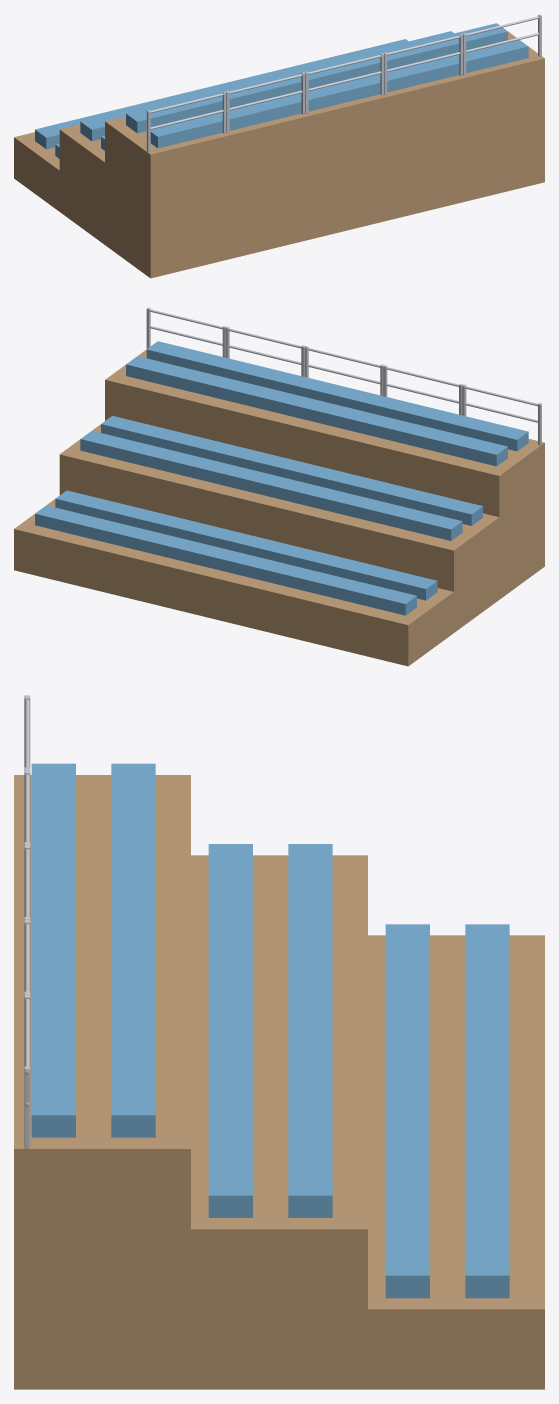
The model's file is Grandstand.fbx.
The picture shows the model from 3 angles, top to bottom: view 1: azimuth 30°, elevation 25°; view 2: azimuth 150°, elevation 25°; view 3: azimuth 270°, elevation 25°; orthographic projection. The views are drawn at different scales.
Parts seen in each view (by area): view 1: Grandstand_Tier2, Grandstand_Seats2-0.55, Grandstand_Seats20.35, Grandstand_Tier1, Grandstand_Tier0, Grandstand_Seats00.35, Grandstand_Seats10.35, Grandstand_Rail-4.0, Grandstand_Rail-2.0, Grandstand_Rail0.0, Grandstand_Rail2.0, Grandstand_Rail4.0; view 2: Grandstand_Tier2, Grandstand_Tier0, Grandstand_Tier1, Grandstand_Seats10.35, Grandstand_Seats00.35, Grandstand_Seats20.35, Grandstand_Seats0-0.55, Grandstand_Seats2-0.55, Grandstand_Seats1-0.55, Grandstand_Rail-4.0, Grandstand_Rail4.0, Grandstand_Rail2.0 (+2 smaller); view 3: Grandstand_Tier2, Grandstand_Tier1, Grandstand_Tier0, Grandstand_Seats00.35, Grandstand_Seats20.35, Grandstand_Seats0-0.55, Grandstand_Seats2-0.55, Grandstand_Seats1-0.55, Grandstand_Seats10.35, Grandstand_Rail4.0.
Part boxes in pixels (x1,y1,x2,y2): Grandstand_Tier2: [105, 31, 544, 278]; Grandstand_Seats2-0.55: [150, 40, 528, 148]; Grandstand_Seats20.35: [126, 23, 507, 133]; Grandstand_Tier1: [59, 124, 104, 244]; Grandstand_Tier0: [14, 132, 59, 211]; Grandstand_Seats00.35: [35, 39, 408, 149]; Grandstand_Seats10.35: [80, 31, 453, 141]; Grandstand_Rail-4.0: [146, 91, 226, 152]; Grandstand_Rail-2.0: [225, 72, 305, 133]; Grandstand_Rail0.0: [304, 53, 384, 113]; Grandstand_Rail2.0: [383, 33, 462, 94]; Grandstand_Rail4.0: [462, 14, 541, 75]; Grandstand_Tier2: [105, 349, 544, 599]; Grandstand_Tier0: [14, 499, 453, 666]; Grandstand_Tier1: [59, 424, 499, 632]; Grandstand_Seats10.35: [80, 431, 462, 540]; Grandstand_Seats00.35: [35, 505, 416, 615]; Grandstand_Seats20.35: [126, 356, 507, 466]; Grandstand_Seats0-0.55: [55, 490, 437, 600]; Grandstand_Seats2-0.55: [146, 341, 528, 451]; Grandstand_Seats1-0.55: [101, 416, 482, 525]; Grandstand_Rail-4.0: [462, 384, 541, 445]; Grandstand_Rail4.0: [146, 307, 226, 357]; Grandstand_Rail2.0: [225, 326, 305, 376]; Grandstand_Tier2: [14, 775, 190, 1389]; Grandstand_Tier1: [191, 855, 367, 1389]; Grandstand_Tier0: [368, 935, 544, 1389]; Grandstand_Seats00.35: [465, 924, 509, 1298]; Grandstand_Seats20.35: [111, 763, 155, 1137]; Grandstand_Seats0-0.55: [385, 924, 429, 1298]; Grandstand_Seats2-0.55: [31, 763, 75, 1137]; Grandstand_Seats1-0.55: [208, 844, 252, 1217]; Grandstand_Seats10.35: [288, 844, 332, 1217]; Grandstand_Rail4.0: [24, 994, 30, 1148].
Bounding box in the file's own units: 1000 × 400 × 600.
